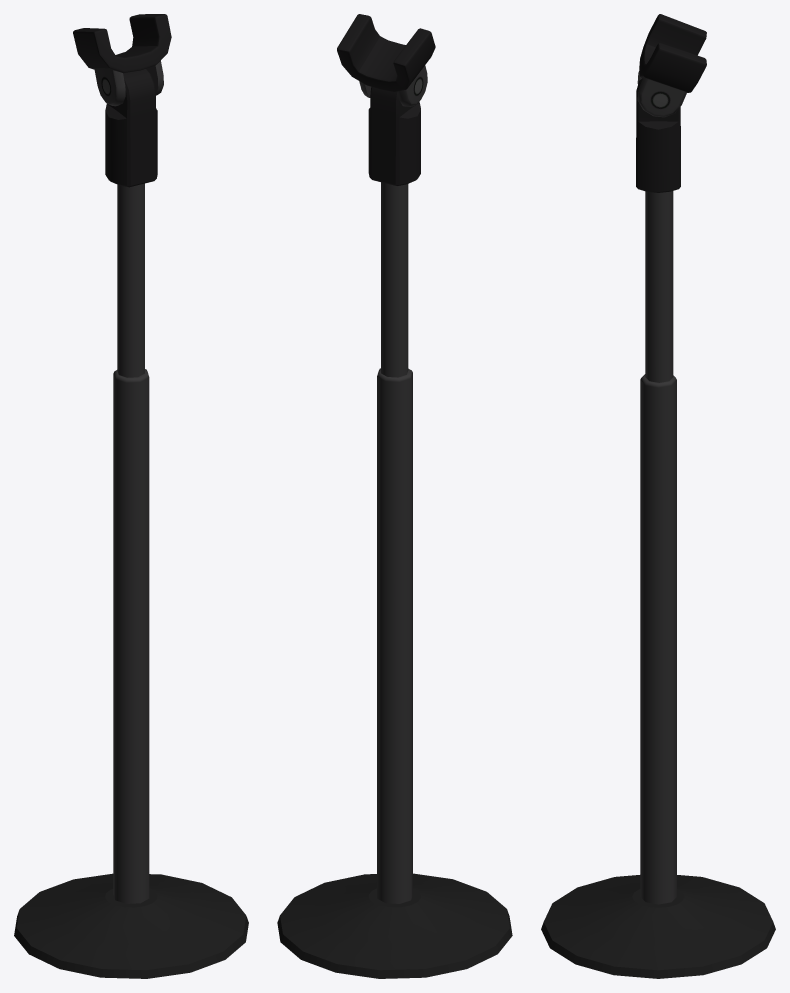
File: mic standglb.glb
The picture shows the model from 3 angles, left to right: view 1: azimuth 30°, elevation 25°; view 2: azimuth 150°, elevation 25°; view 3: azimuth 270°, elevation 25°; orthographic projection.
Visible parts, largest first — view 1: Mic_Stand_LOD0; view 2: Mic_Stand_LOD0; view 3: Mic_Stand_LOD0.
Boxes of the visible parts, box(x1,y1,x2,y2) form: Mic_Stand_LOD0: box(14, 14, 248, 978); Mic_Stand_LOD0: box(277, 14, 512, 978); Mic_Stand_LOD0: box(541, 14, 775, 978).
Bounding box in the file's own units: 0.3495 × 1.47 × 0.3495.
Materials: 1 (1 with a texture image).
